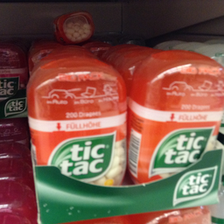candy: (26, 54, 128, 197), (126, 47, 222, 194)
